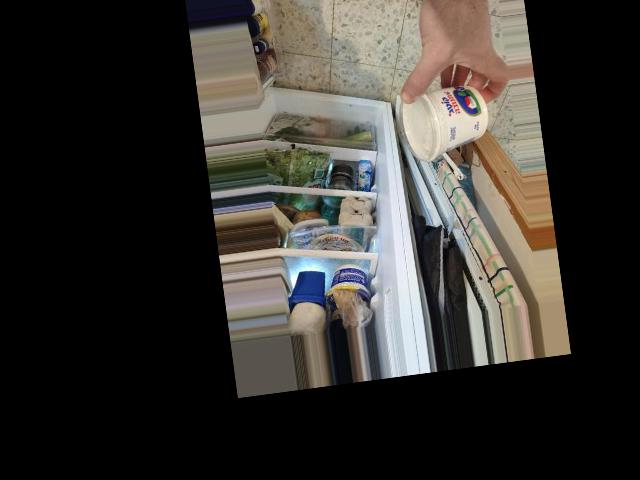cotage: (398, 75, 489, 163)
